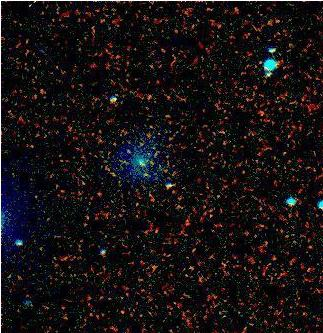star: (28, 34, 58, 64)
